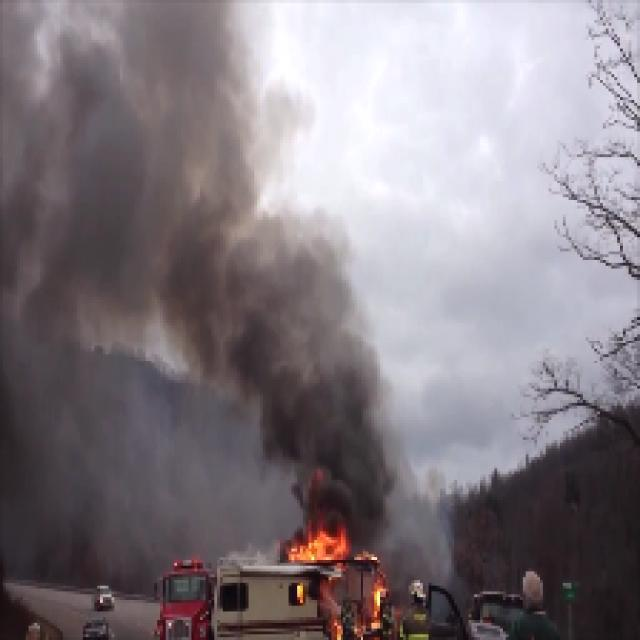fire: (290, 526, 342, 566)
smoke: (37, 382, 242, 542), (34, 82, 150, 295), (264, 299, 373, 505), (160, 139, 250, 351)
